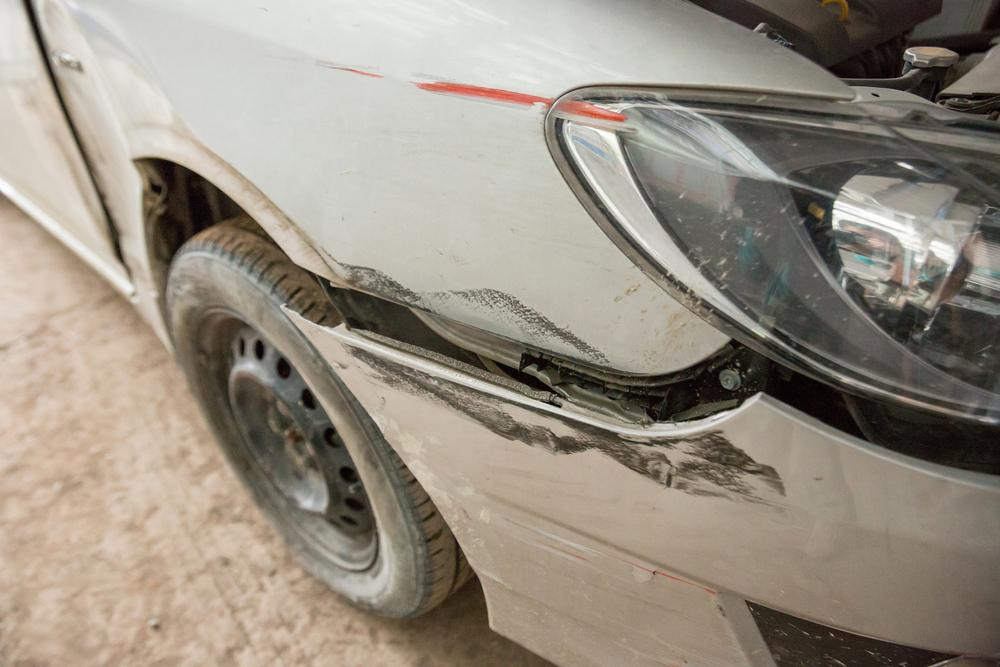scratch: (333, 338, 791, 509), (293, 231, 620, 373), (320, 59, 552, 115), (549, 100, 639, 162)
